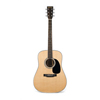guitar: (33, 6, 68, 94)
